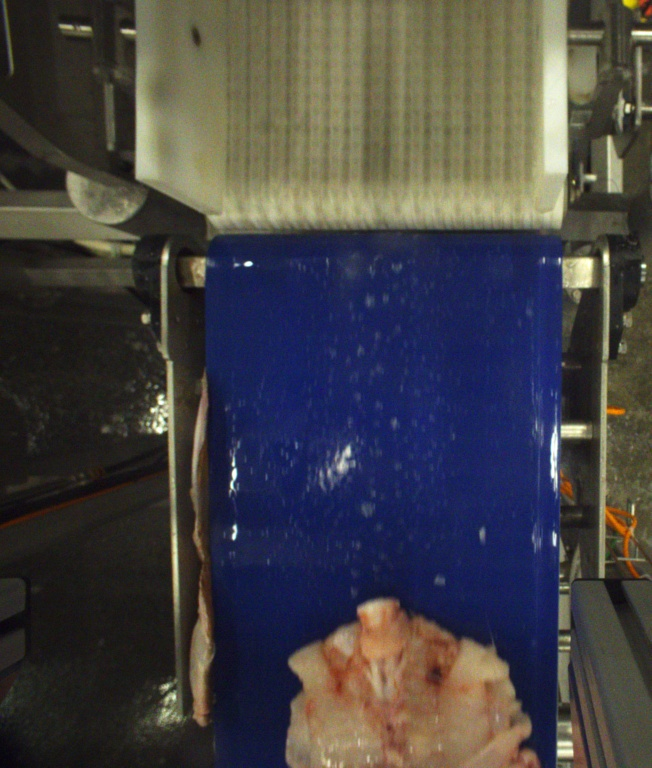ANF: (284, 597, 545, 768)
